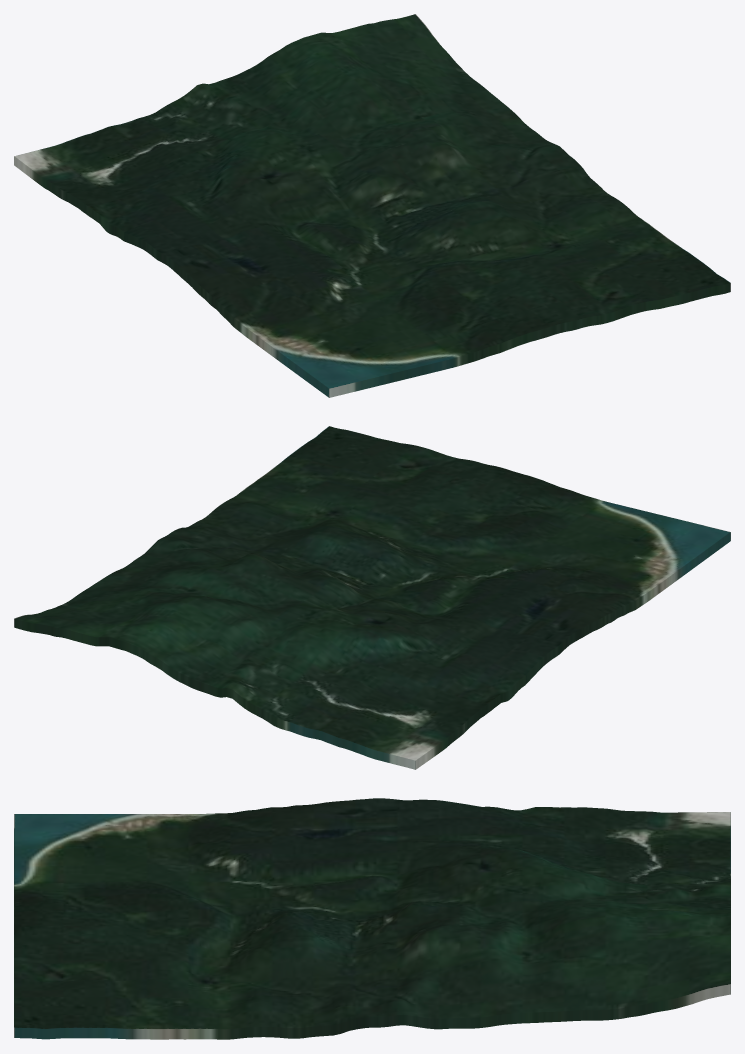
The picture shows the model from 3 angles, top to bottom: view 1: azimuth 30°, elevation 25°; view 2: azimuth 150°, elevation 25°; view 3: azimuth 270°, elevation 25°; orthographic projection. The views are drawn at different scales.
Parts seen in each view (by area): view 1: tile; view 2: tile; view 3: tile.
Part boxes in pixels (x1,y1,x2,y2): tile: (14, 14, 730, 397); tile: (14, 426, 730, 769); tile: (14, 798, 730, 1039).
Bounding box in the file's own units: 4050 × 577 × 5505.
1 material, 1 textured.
